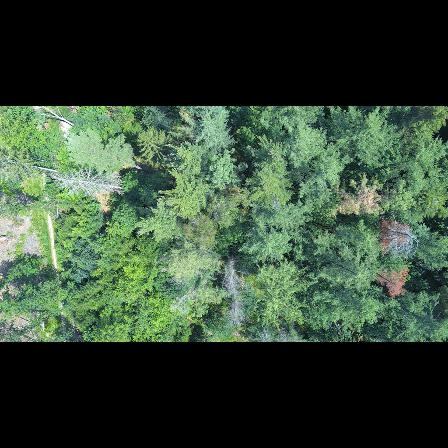Dead: (58, 167, 130, 200), (219, 255, 249, 332), (378, 211, 422, 263)
